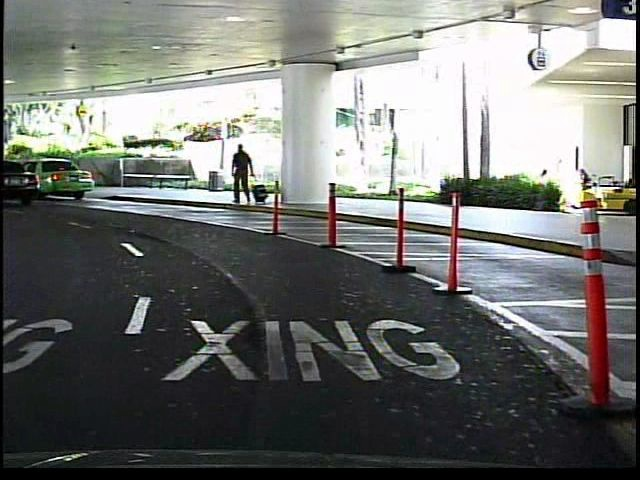person: (228, 141, 259, 211)
